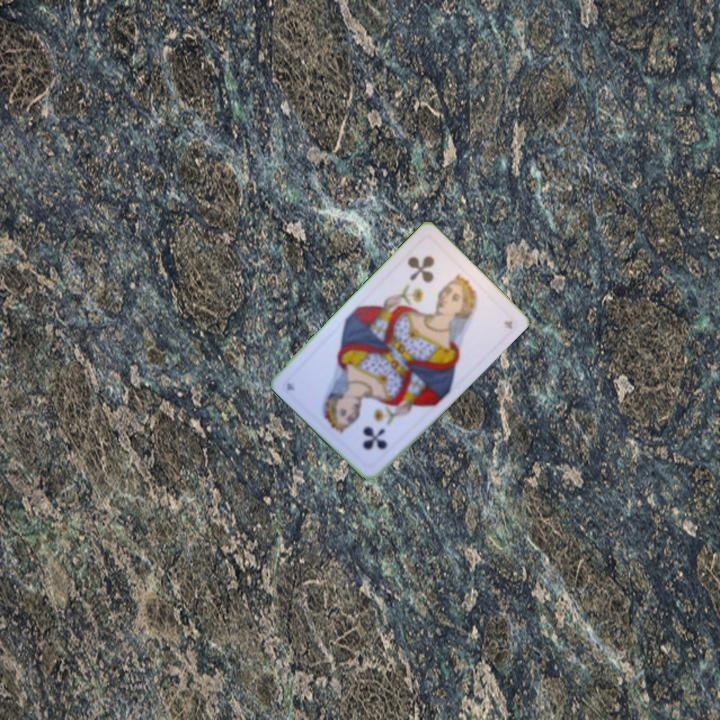c_q.png: (324, 385, 410, 471), (388, 233, 474, 319)
